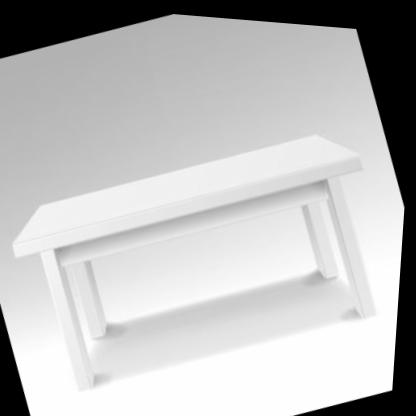Table: (0, 55, 413, 416)
